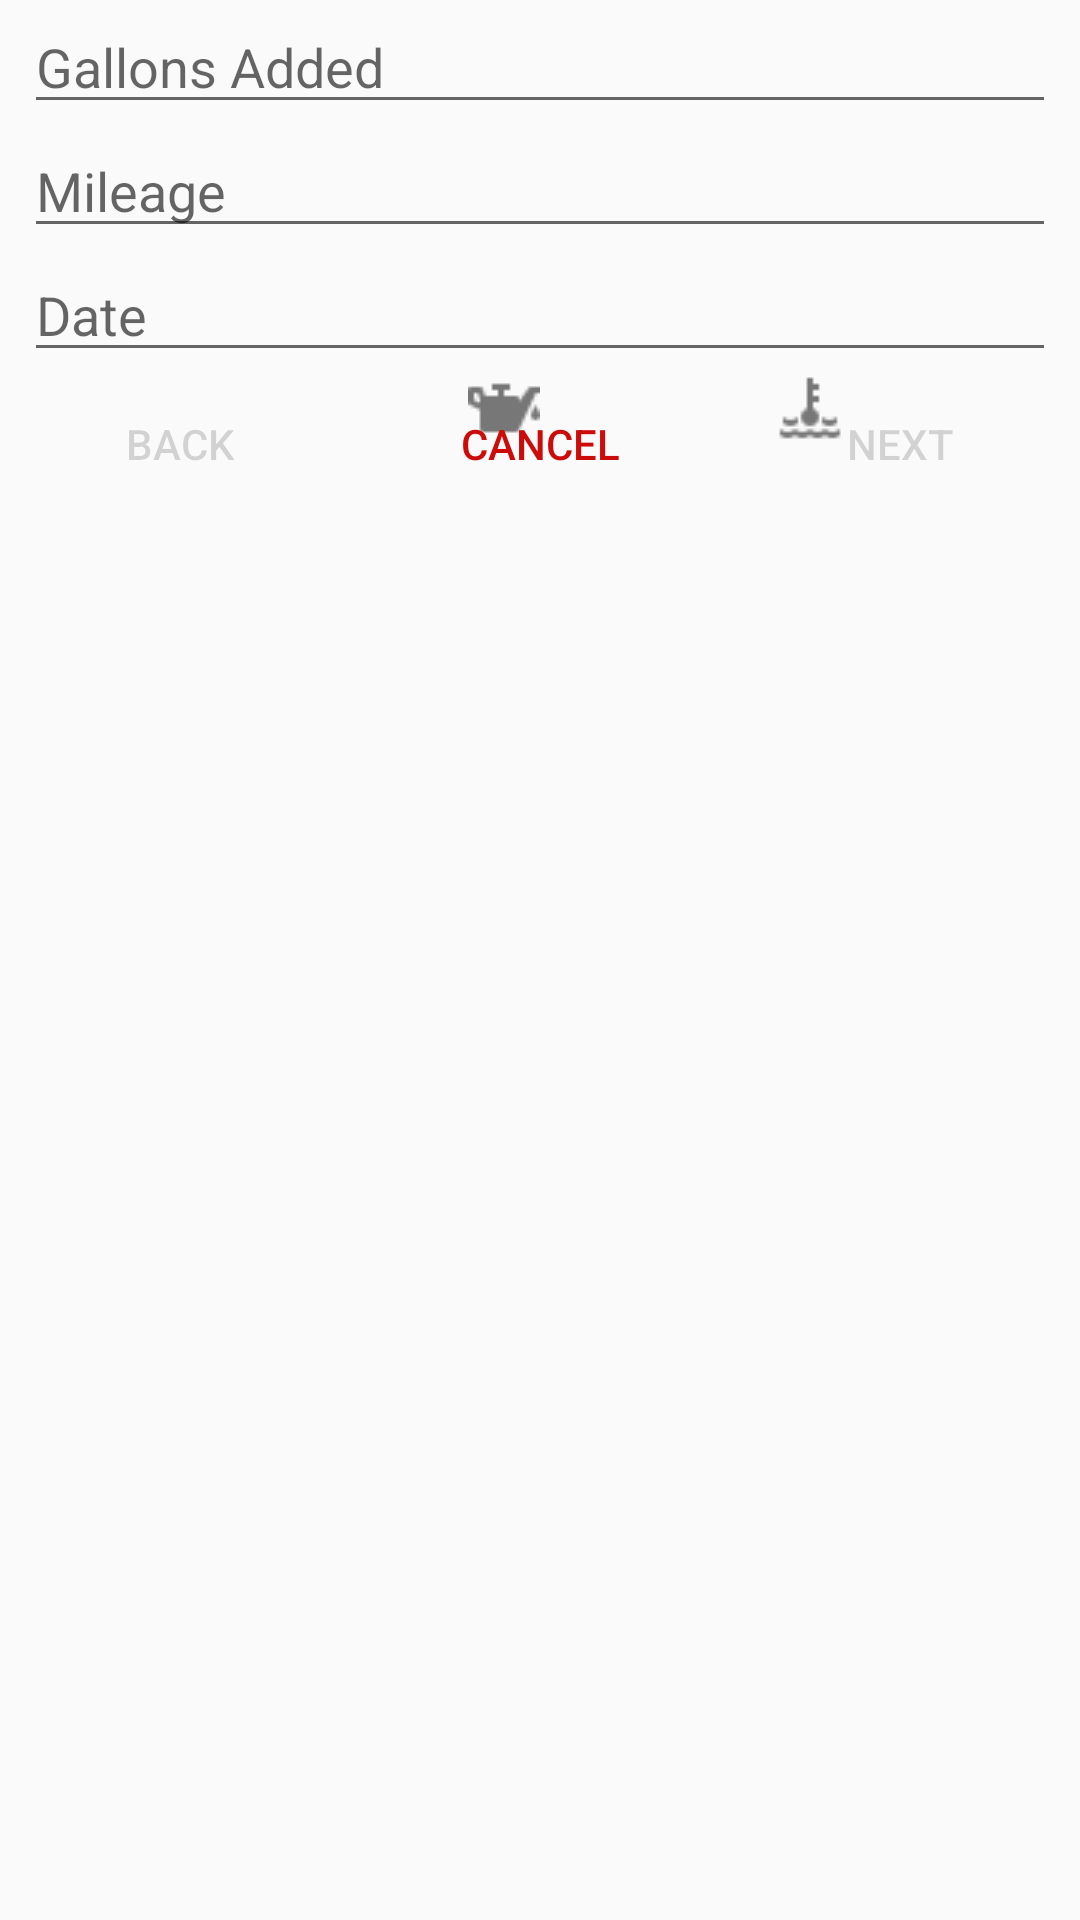

Named icons in this screenshot (1080w x 1920h) and their bounding boxes, Rect(x1, y1, x2, y2):
coolant: Rect(779, 377, 841, 439)
